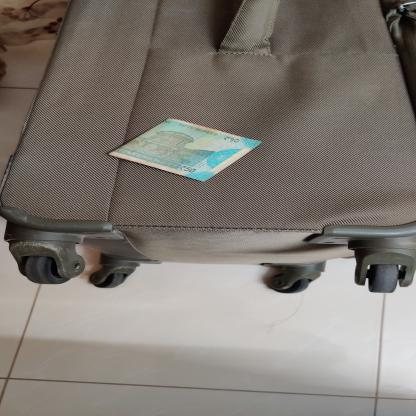New50Back: (107, 116, 266, 183)
